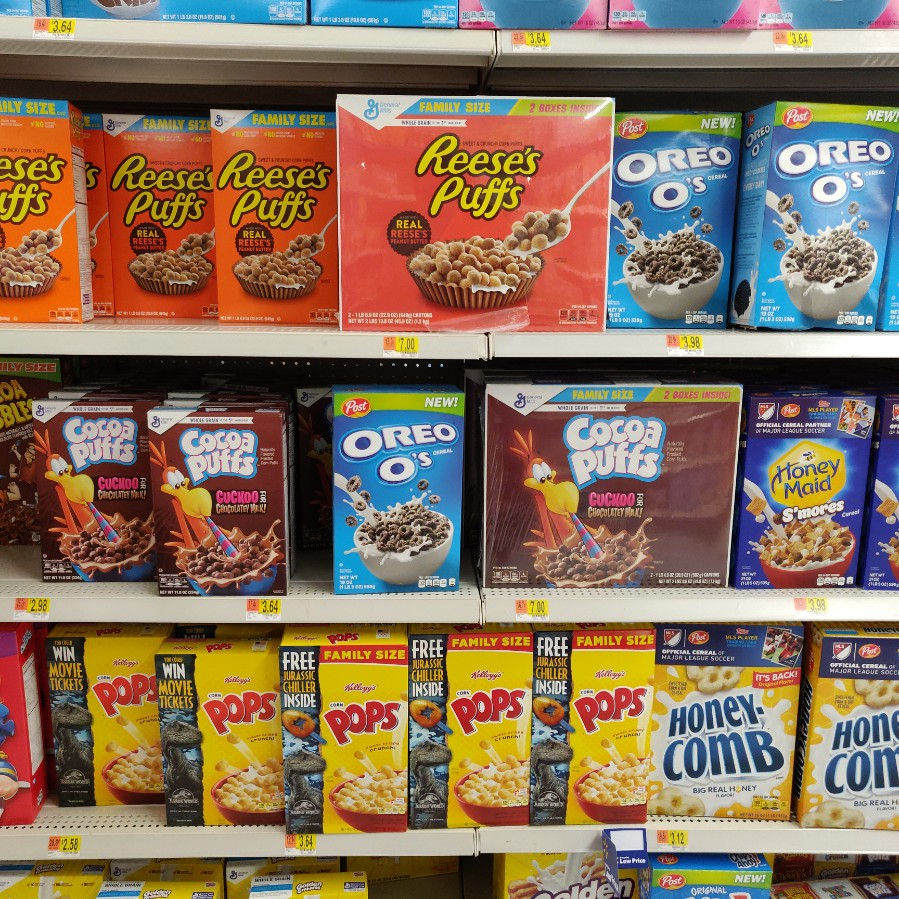Honey Comb- 009288857: (655, 626, 804, 819), (813, 632, 899, 825)
Oreo-563424384: (769, 101, 894, 331), (612, 106, 742, 321), (338, 385, 465, 590)
